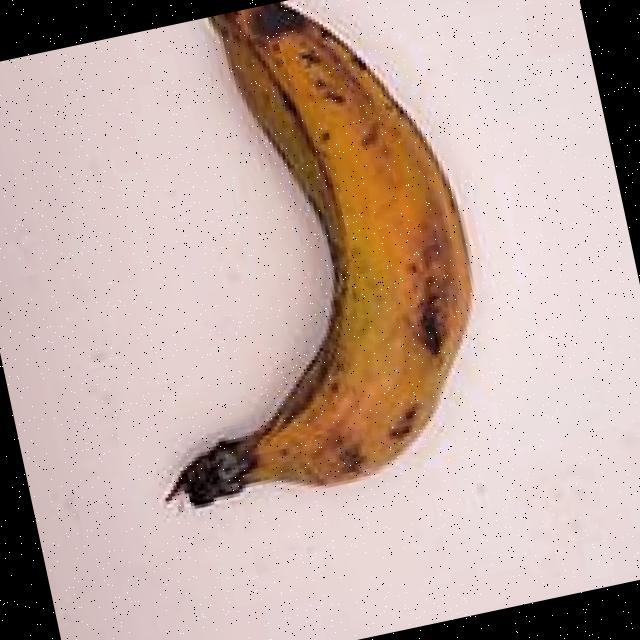Overripe: (16, 0, 554, 561)
